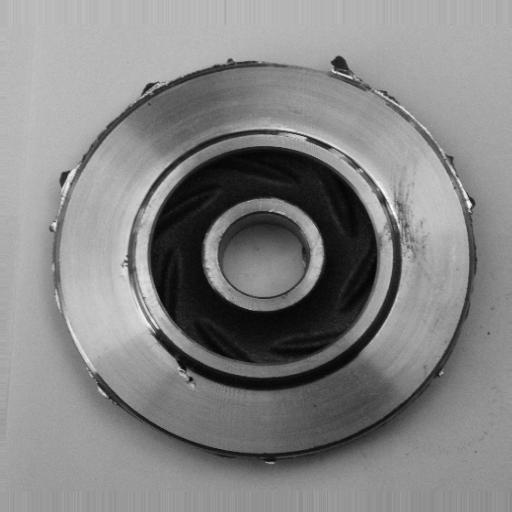casting_with_burr: (49, 50, 483, 469)
crack: (148, 315, 215, 397), (116, 248, 141, 287)
stain: (373, 155, 441, 278)
